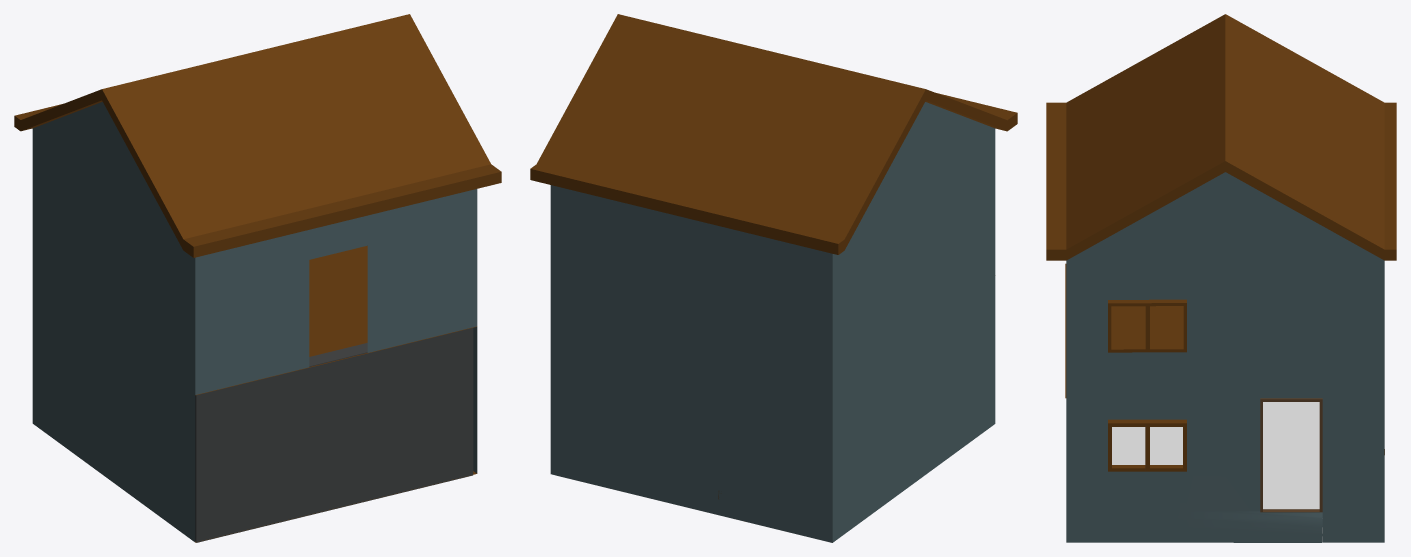
Rendered from house modified.fbx.
The picture shows the model from 3 angles, left to right: view 1: azimuth 30°, elevation 25°; view 2: azimuth 150°, elevation 25°; view 3: azimuth 270°, elevation 25°; orthographic projection. The views are drawn at different scales.
Visible parts, largest first — view 1: Cube.001, Cube; view 2: Cube.001; view 3: Cube.001, Cube.002.
Boxes of the visible parts, x1,y1,x2,y2 form: Cube.001: (14, 14, 501, 542); Cube: (195, 328, 473, 542); Cube.001: (530, 14, 1017, 542); Cube.001: (1046, 14, 1396, 542); Cube.002: (1112, 402, 1322, 541).
Size of the model in its own units: 561 by 693 by 565.
